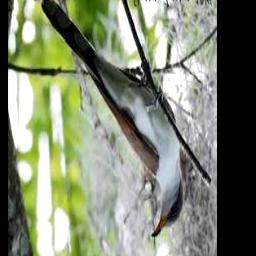Cuckoo: (41, 0, 183, 238)
